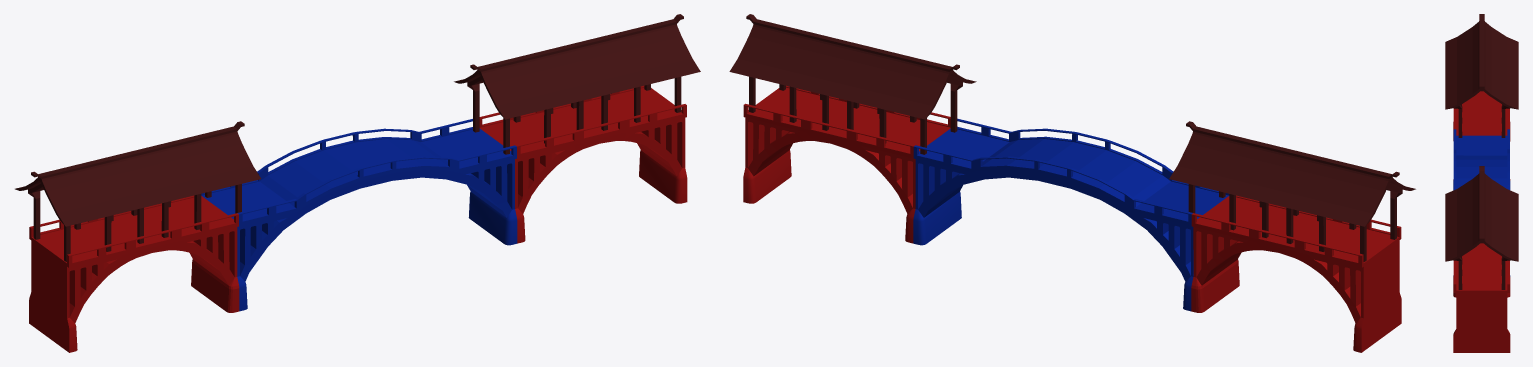
The model's file is Chinese_Bridge.FBX.
3 renders of one model, left to right at view 1: azimuth 30°, elevation 25°; view 2: azimuth 150°, elevation 25°; view 3: azimuth 270°, elevation 25°, orthographic. The views are drawn at different scales.
Parts seen in each view (by area): view 1: Roofing (×2), Bridge_B, Bridge_C, Bridge_A; view 2: Roofing (×2), Bridge_B, Bridge_C, Bridge_A; view 3: Roofing (×2), Bridge_A, Bridge_B, Bridge_C.
Part boxes in pixels (x1,y1,x2,y2): Roofing (×2): (15,14,700,261); Bridge_B: (201,119,517,311); Bridge_C: (29,195,239,352); Bridge_A: (479,85,687,243); Roofing (×2): (729,14,1415,261); Bridge_B: (913,118,1229,311); Bridge_C: (1191,195,1401,352); Bridge_A: (743,85,950,243); Roofing (×2): (1445,14,1518,289); Bridge_A: (1453,243,1510,352); Bridge_B: (1453,129,1510,276); Bridge_C: (1453,91,1510,180).
Size of the model in its own units: 968 by 240 by 133.
